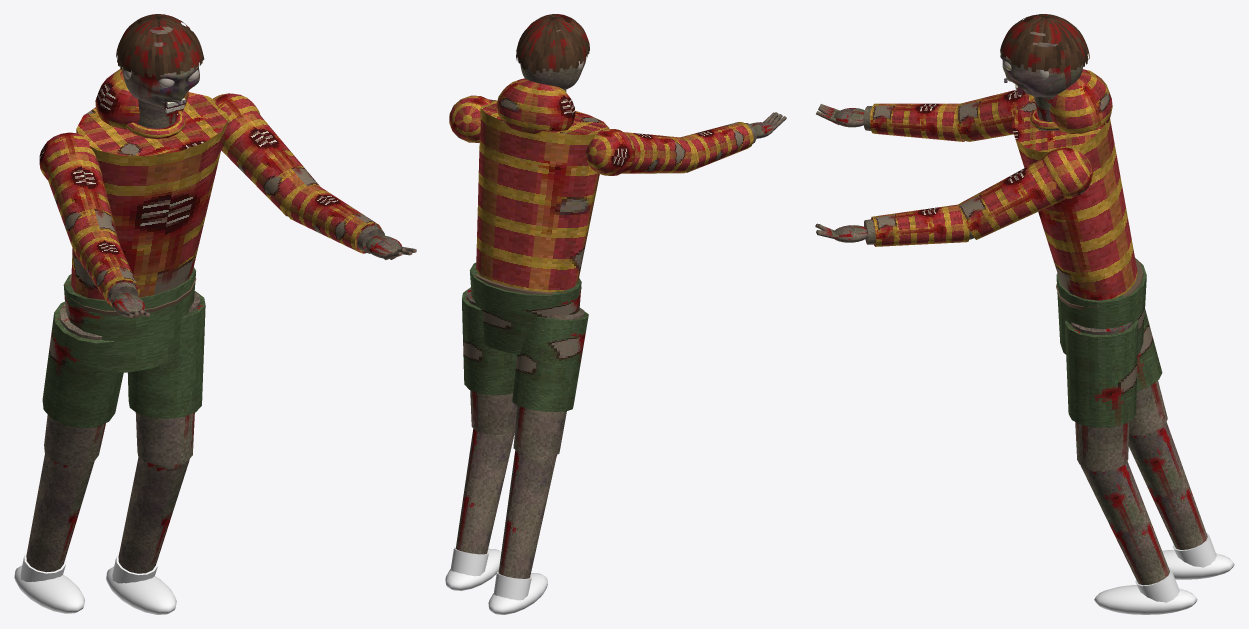
Rendered from Zombie_077.glb.
3 renders of one model, left to right at view 1: azimuth 30°, elevation 25°; view 2: azimuth 150°, elevation 25°; view 3: azimuth 270°, elevation 25°, orthographic. The views are drawn at different scales.
Visible parts, largest first — view 1: Zombie_077, object 45, object 12, object 4, object 18, object 13, object 5; view 2: Zombie_077, object 45, object 4, object 18; view 3: Zombie_077, object 45, object 12, object 4, object 18.
Boxes of the visible parts, <box> form: Zombie_077: <box>14,68,320,614</box>; object 45: <box>116,14,204,77</box>; object 12: <box>286,185,382,253</box>; object 4: <box>73,230,139,306</box>; object 18: <box>122,26,199,108</box>; object 13: <box>366,235,402,258</box>; object 5: <box>112,293,145,317</box>; Zombie_077: <box>445,78,695,614</box>; object 45: <box>516,14,589,72</box>; object 4: <box>681,122,753,172</box>; object 18: <box>520,29,586,89</box>; Zombie_077: <box>955,69,1234,614</box>; object 45: <box>1000,14,1089,69</box>; object 12: <box>871,204,969,246</box>; object 4: <box>870,103,964,141</box>; object 18: <box>1000,31,1083,97</box>.
Bounding box in the file's own units: 0.8107 × 1.72 × 1.13.
16 materials, 6 textured.
